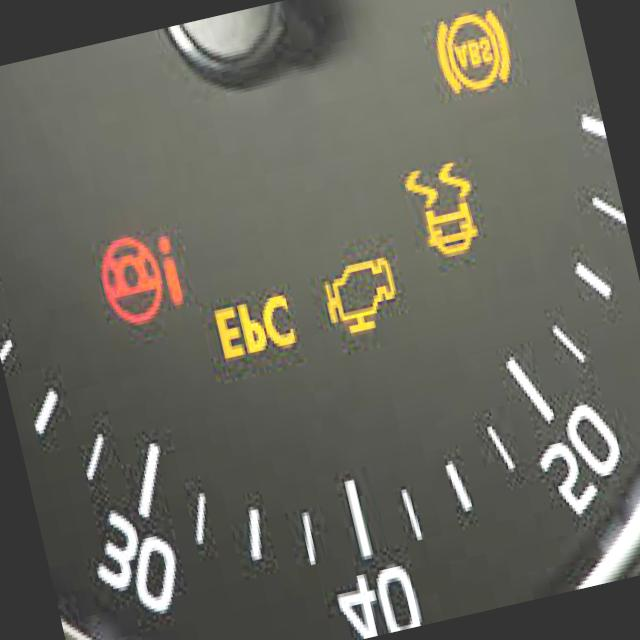kontrolka: (84, 228, 193, 342), (308, 240, 412, 350), (420, 0, 522, 106), (396, 151, 488, 266), (204, 282, 304, 373)
